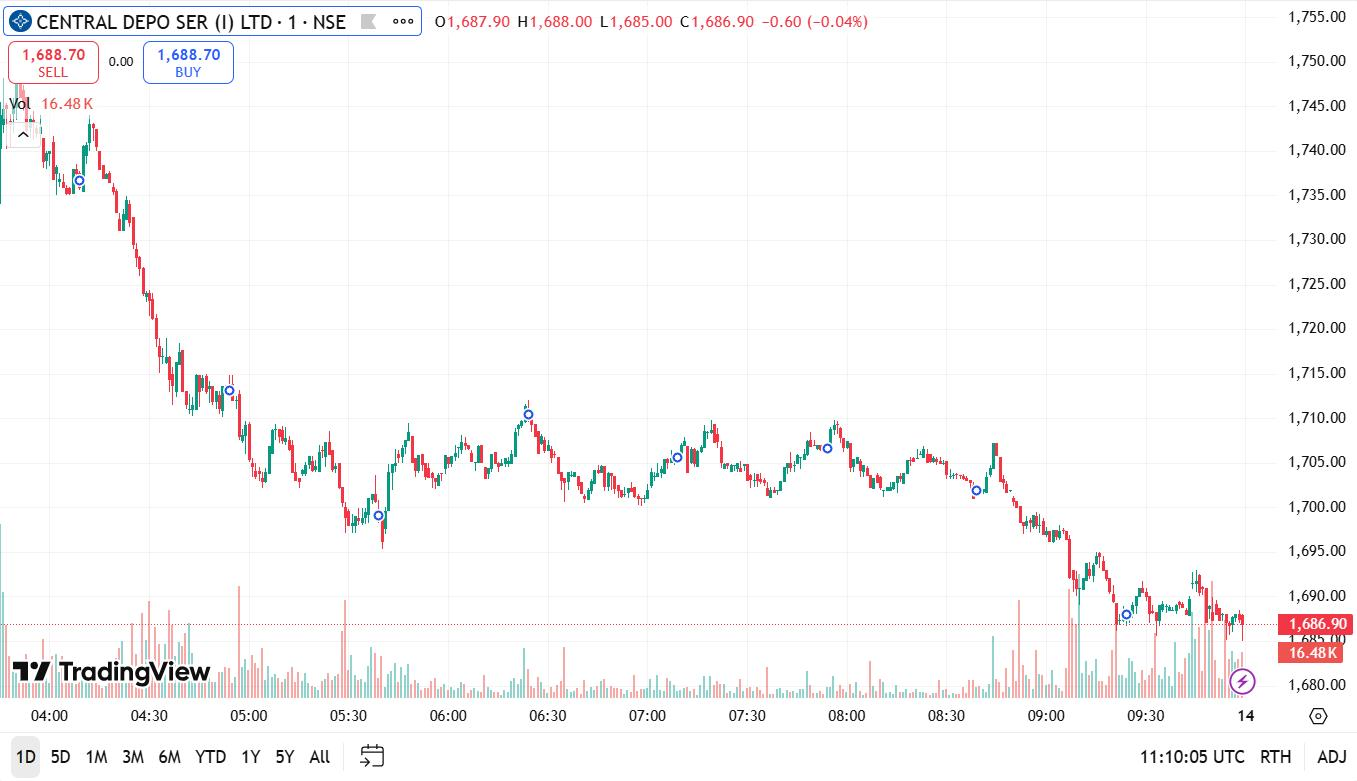Downtrend: (72, 99, 196, 429), (980, 409, 1085, 596), (513, 367, 573, 509), (308, 417, 368, 549), (1093, 519, 1129, 640)
Sideways: (652, 395, 863, 512)
Uptrend: (372, 410, 416, 546), (253, 402, 286, 488)
